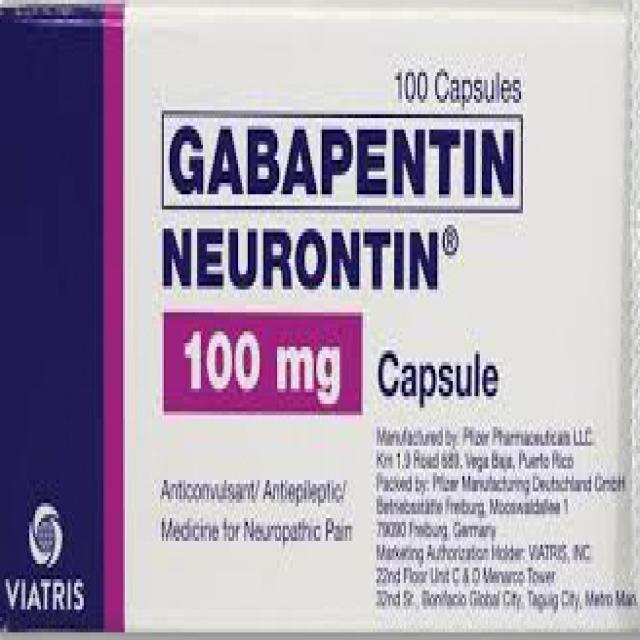drug-name: (168, 121, 519, 206)
